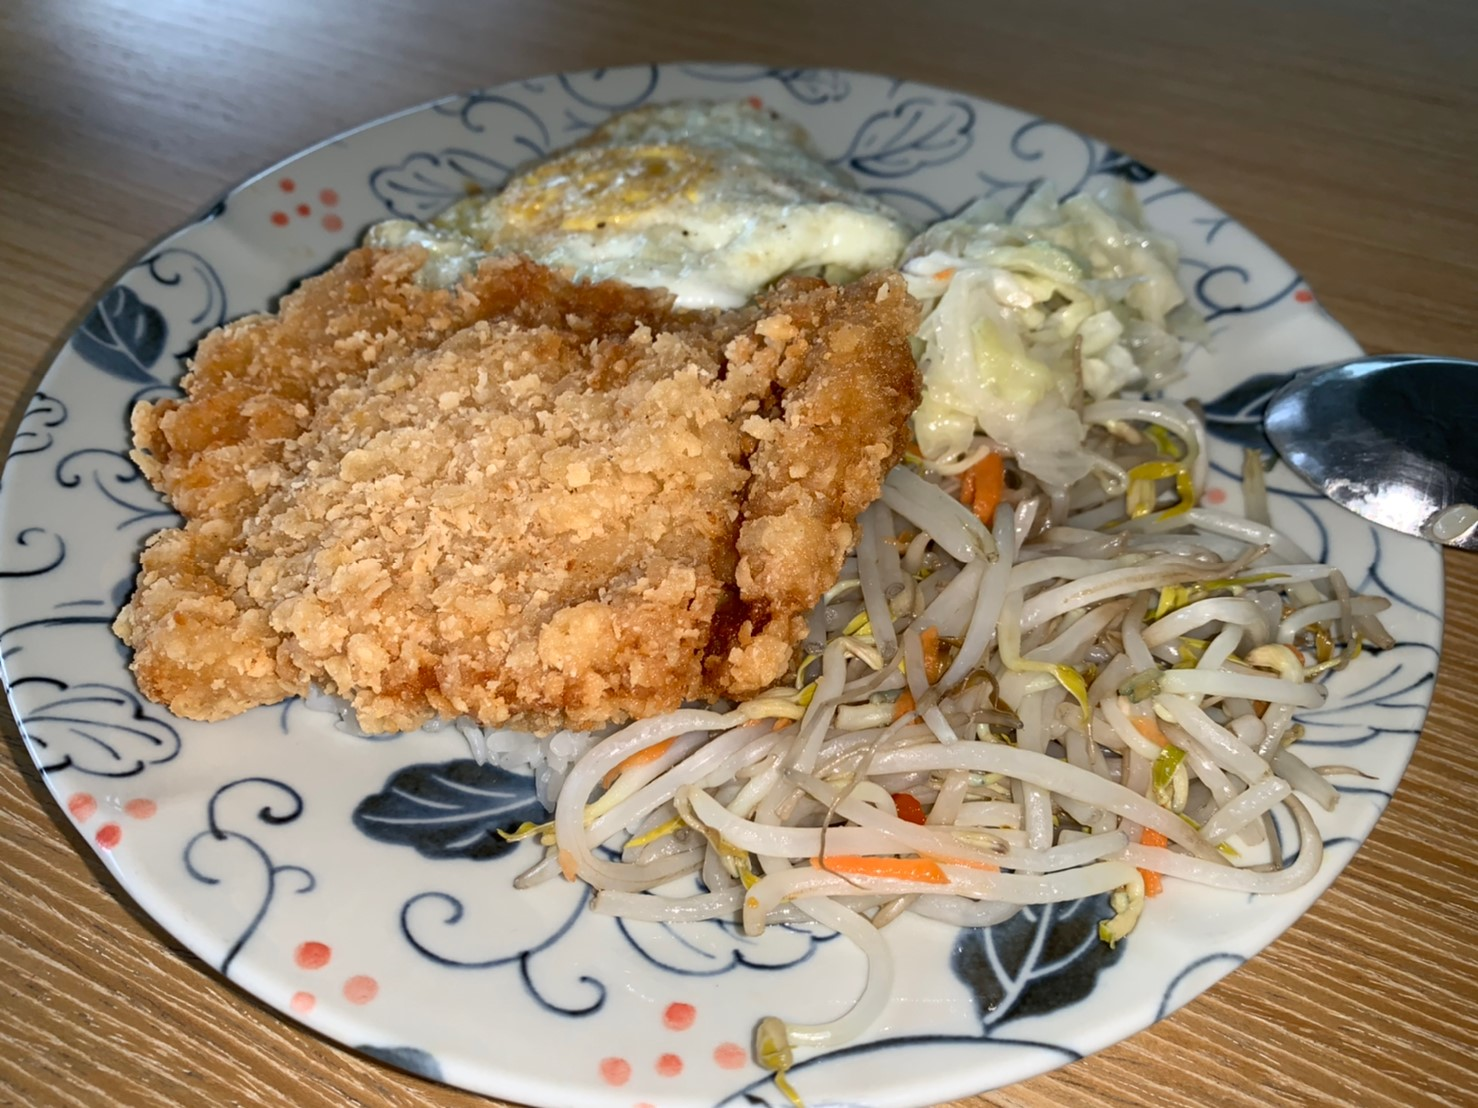chinese_cabbage: (917, 176, 1213, 506)
fried_chicken: (105, 247, 910, 725)
fried_eggs: (384, 95, 914, 308)
mung_bean_sprouts: (648, 514, 1356, 942)
